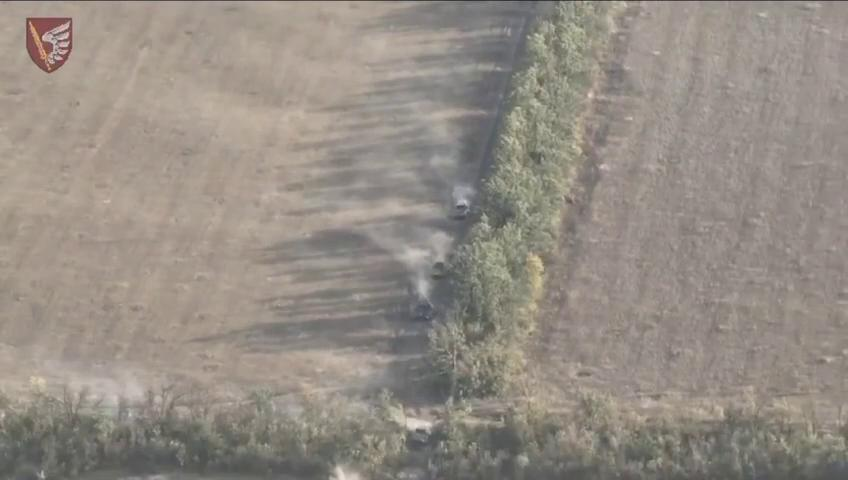tank: (412, 296, 443, 330), (422, 253, 449, 285), (446, 193, 472, 226), (410, 421, 435, 444)
